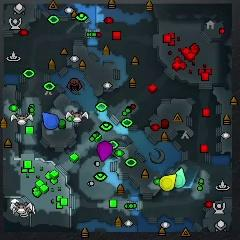p1: (42, 112, 59, 130)
p2: (176, 168, 186, 189)
p3: (97, 141, 112, 161)
p4: (160, 174, 176, 191)
